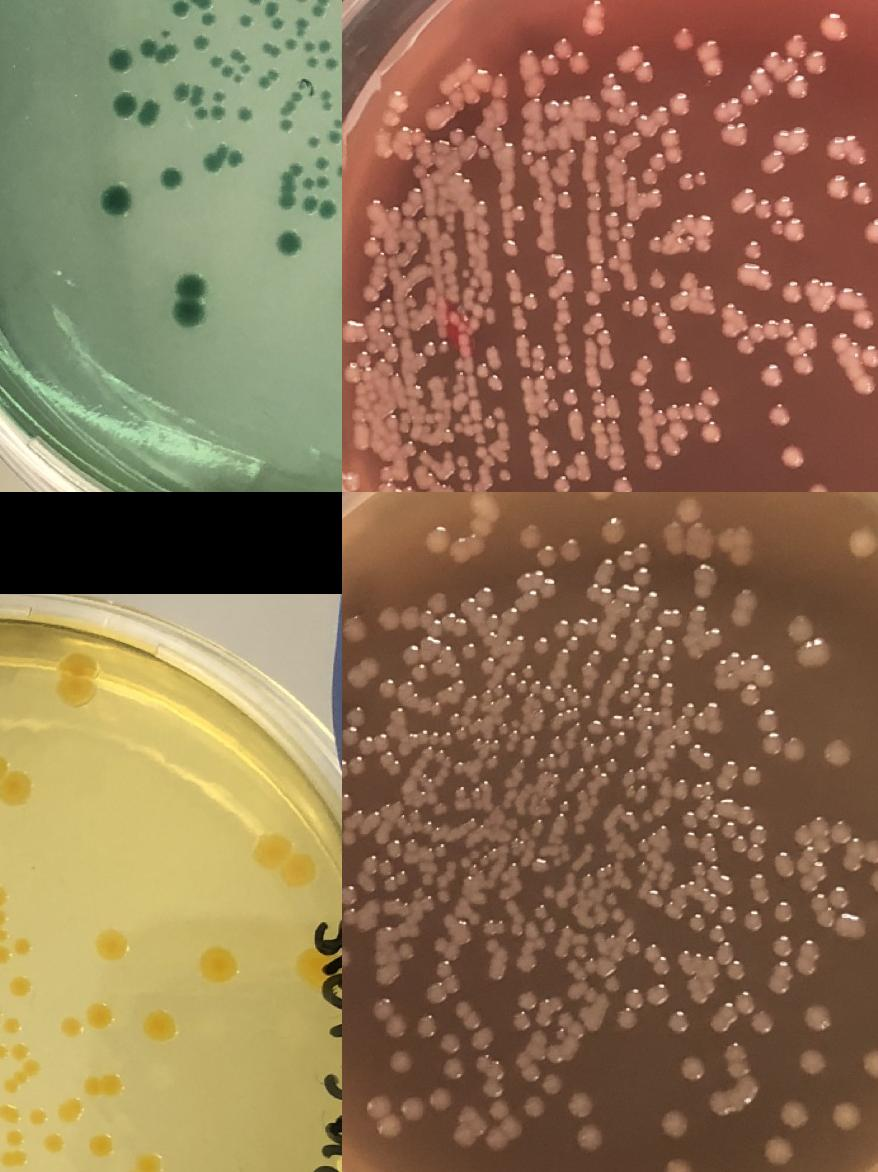pddamselae: (172, 274, 203, 328), (112, 92, 158, 127), (209, 54, 251, 86), (172, 84, 208, 120), (97, 181, 133, 217), (278, 160, 303, 208), (204, 144, 243, 173), (278, 88, 303, 132), (140, 38, 178, 64), (275, 230, 301, 256), (158, 165, 184, 191), (108, 46, 134, 72), (262, 1, 284, 30), (208, 89, 226, 120), (327, 107, 342, 144), (302, 174, 329, 191), (257, 68, 279, 88), (262, 40, 282, 57), (319, 88, 333, 112), (171, 0, 190, 17), (310, 0, 330, 16), (318, 201, 336, 217), (236, 106, 254, 122), (194, 34, 211, 50), (302, 196, 318, 212), (325, 57, 339, 71), (315, 155, 329, 169), (306, 136, 320, 150), (306, 55, 320, 69), (302, 38, 316, 52), (294, 16, 308, 30), (189, 0, 212, 8), (284, 36, 298, 49), (203, 12, 216, 25), (319, 40, 333, 52), (238, 14, 252, 26), (230, 47, 242, 61), (336, 163, 342, 176), (247, 0, 262, 4)
vharveyi: (790, 812, 878, 872), (474, 1054, 524, 1152), (342, 704, 391, 781), (664, 383, 724, 444), (736, 318, 822, 356), (752, 188, 810, 244), (672, 23, 726, 83), (256, 834, 316, 886), (766, 941, 820, 997), (756, 709, 812, 762), (679, 506, 718, 582), (616, 982, 671, 1030), (442, 412, 489, 460), (708, 990, 758, 1034), (57, 650, 96, 705), (808, 882, 854, 927), (719, 819, 769, 860), (708, 925, 746, 978), (552, 297, 576, 374), (516, 521, 556, 567), (364, 1091, 402, 1139), (552, 449, 592, 492), (824, 173, 876, 206), (424, 958, 461, 1004), (540, 33, 575, 78), (520, 1060, 564, 1095), (627, 352, 656, 405), (0, 752, 30, 803), (372, 997, 408, 1039), (714, 760, 763, 790), (376, 604, 427, 632), (297, 948, 335, 984), (509, 988, 540, 1032), (690, 701, 726, 736), (199, 947, 234, 982), (464, 513, 492, 556), (94, 927, 129, 961), (346, 655, 382, 688), (511, 290, 540, 330), (5, 1058, 41, 1090), (146, 1008, 179, 1042), (383, 88, 410, 127), (699, 895, 738, 922), (402, 643, 430, 680), (83, 1072, 123, 1096), (684, 742, 716, 772), (122, 1151, 167, 1172), (676, 166, 712, 192), (718, 798, 756, 822), (640, 151, 666, 186), (518, 343, 547, 373), (642, 944, 671, 974), (556, 1010, 585, 1040), (798, 861, 826, 892), (730, 590, 754, 625), (576, 1124, 604, 1154), (726, 1042, 748, 1078), (644, 266, 672, 294), (850, 528, 878, 556), (832, 1100, 860, 1128), (824, 736, 852, 764), (804, 637, 832, 665), (787, 613, 815, 641), (780, 1098, 808, 1126), (762, 1136, 790, 1164), (662, 1108, 690, 1136), (599, 516, 627, 544), (566, 1091, 594, 1119), (454, 1000, 482, 1028), (424, 524, 452, 552), (399, 1093, 427, 1121), (386, 1048, 414, 1076), (672, 352, 695, 386), (748, 872, 772, 904), (455, 452, 474, 492), (777, 277, 804, 305), (758, 362, 785, 390), (667, 88, 694, 116), (429, 1082, 456, 1110), (342, 614, 369, 642), (765, 400, 791, 429), (821, 132, 847, 160), (790, 351, 816, 379), (784, 72, 810, 100), (782, 30, 808, 58), (779, 443, 805, 471), (634, 58, 660, 86), (800, 1047, 826, 1075), (488, 70, 512, 100), (804, 1003, 830, 1030), (606, 220, 640, 240), (663, 520, 683, 554), (666, 286, 690, 314), (520, 96, 544, 124), (482, 403, 506, 430), (7, 973, 32, 998), (740, 236, 764, 262), (658, 324, 682, 350), (641, 451, 665, 477), (440, 726, 468, 747), (0, 1148, 29, 1168), (87, 1004, 111, 1028), (59, 1014, 83, 1038), (772, 899, 796, 923), (738, 682, 762, 706), (681, 1054, 705, 1078), (666, 1008, 690, 1032), (524, 1095, 548, 1119), (452, 1122, 476, 1146), (444, 1058, 468, 1082), (772, 933, 795, 958), (740, 82, 762, 108), (858, 341, 878, 369), (852, 307, 876, 330), (90, 1133, 113, 1157), (438, 1028, 461, 1052), (752, 1010, 774, 1034), (708, 1090, 730, 1114), (416, 1014, 438, 1038), (422, 338, 451, 354), (611, 473, 635, 492), (484, 371, 504, 393), (863, 1049, 878, 1077), (754, 270, 773, 292), (600, 127, 620, 147), (556, 188, 576, 208), (694, 233, 712, 255), (501, 236, 520, 256), (483, 303, 502, 323), (447, 126, 466, 146), (644, 233, 662, 253), (544, 448, 562, 468), (510, 202, 528, 222), (496, 465, 514, 485), (362, 284, 380, 304), (362, 236, 380, 256), (846, 918, 866, 936), (776, 858, 796, 876), (716, 876, 736, 894), (705, 628, 725, 646), (700, 960, 720, 978), (700, 846, 720, 864), (688, 604, 708, 622), (687, 986, 707, 1004), (681, 830, 701, 848), (666, 609, 686, 627), (603, 975, 623, 993), (586, 718, 606, 736), (553, 619, 573, 637), (532, 636, 552, 654), (521, 921, 541, 939), (470, 1030, 490, 1048), (460, 641, 480, 659), (451, 924, 471, 942), (385, 840, 405, 858), (361, 855, 381, 873), (562, 386, 580, 405), (58, 1103, 77, 1121), (3, 1016, 22, 1034), (680, 810, 699, 828), (671, 780, 690, 798), (692, 584, 712, 601), (687, 914, 707, 931), (584, 584, 604, 601), (28, 1106, 46, 1124), (14, 937, 32, 955), (11, 1041, 29, 1059), (5, 1128, 23, 1146), (0, 1104, 18, 1122), (744, 910, 762, 928), (516, 953, 534, 971), (374, 966, 392, 984), (806, 480, 832, 492), (664, 1161, 692, 1172), (45, 1133, 62, 1151), (402, 292, 420, 308), (484, 936, 500, 954), (0, 884, 7, 924), (579, 320, 596, 336), (585, 956, 598, 976), (648, 299, 664, 315), (612, 730, 628, 746), (582, 985, 597, 1002), (526, 412, 541, 428), (477, 144, 492, 160), (404, 238, 419, 254), (590, 388, 605, 403), (604, 757, 618, 773), (342, 794, 355, 811), (520, 149, 534, 164), (546, 397, 560, 411), (586, 492, 614, 499), (0, 946, 10, 964), (620, 299, 634, 311), (0, 930, 7, 942), (0, 1045, 6, 1057)
